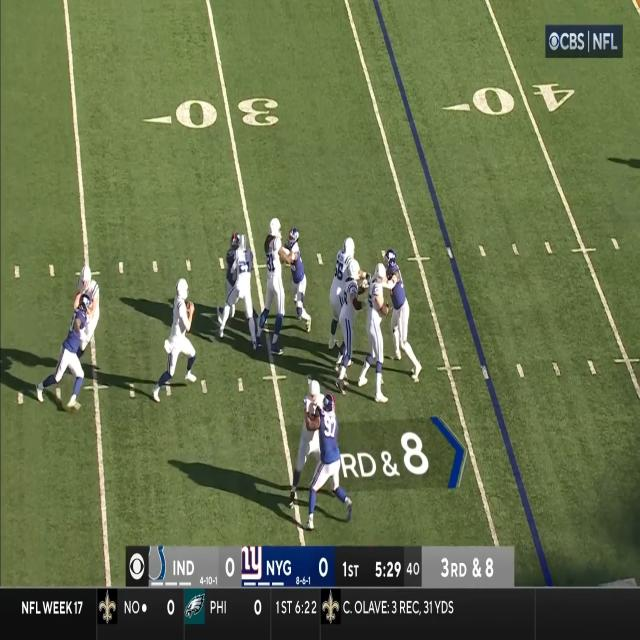players: (303, 388, 354, 536), (365, 255, 408, 396), (40, 303, 92, 417), (151, 284, 200, 402), (356, 264, 391, 399), (334, 262, 368, 396), (381, 250, 415, 381), (220, 234, 258, 348), (294, 382, 324, 514), (283, 230, 316, 340), (73, 269, 102, 372), (266, 220, 286, 280)
